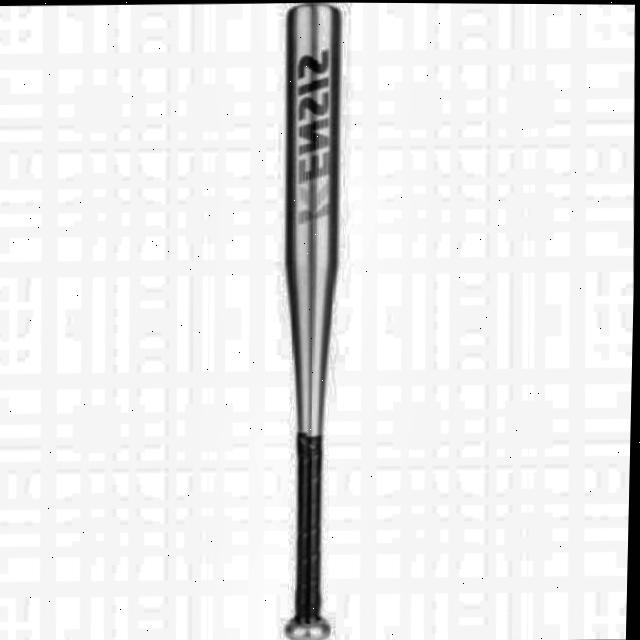tongkat pemukul: (259, 4, 379, 640)
